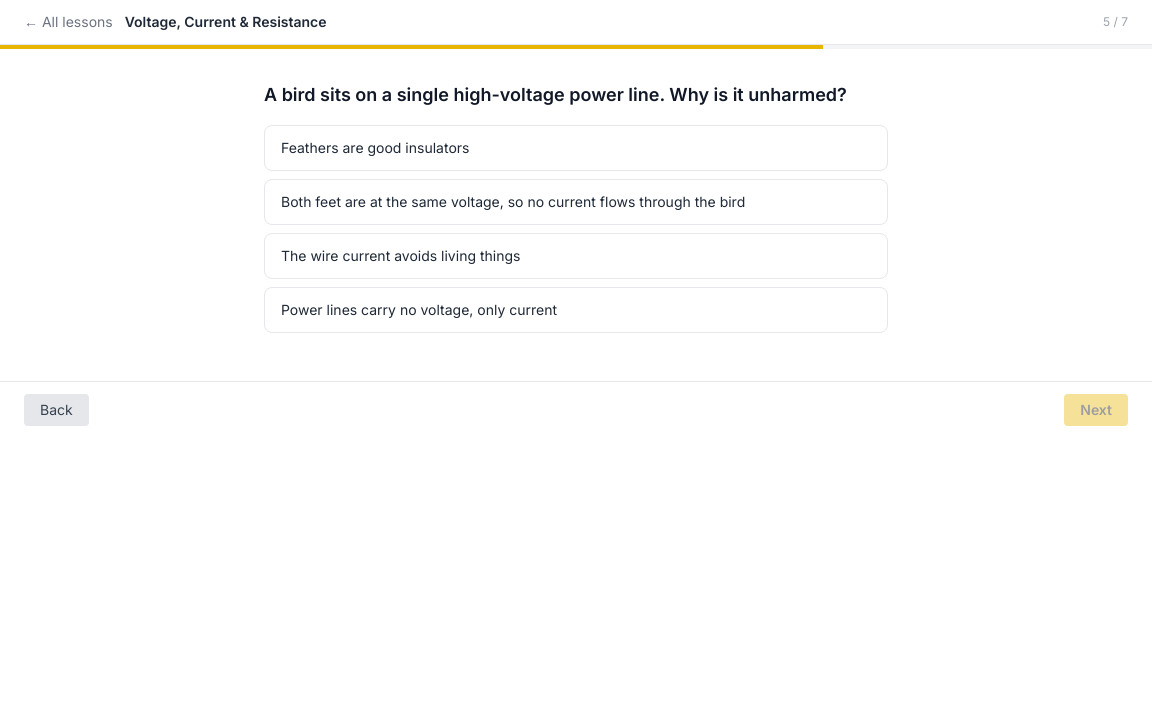
Scenario: LessonsPanel — player › locks quiz answers, shows the explanation, and gates Next
Expected: the heading "bird sits" is shown, x1=264 y1=84 x2=847 y2=105
Expected: the button "Next" is disabled, x1=1064 y1=394 x2=1128 y2=426
Click the button "Both feet are at the same voltage, so no current flows through the bird". click: [576, 202]
box: x1=264 y1=179 x2=888 y2=225
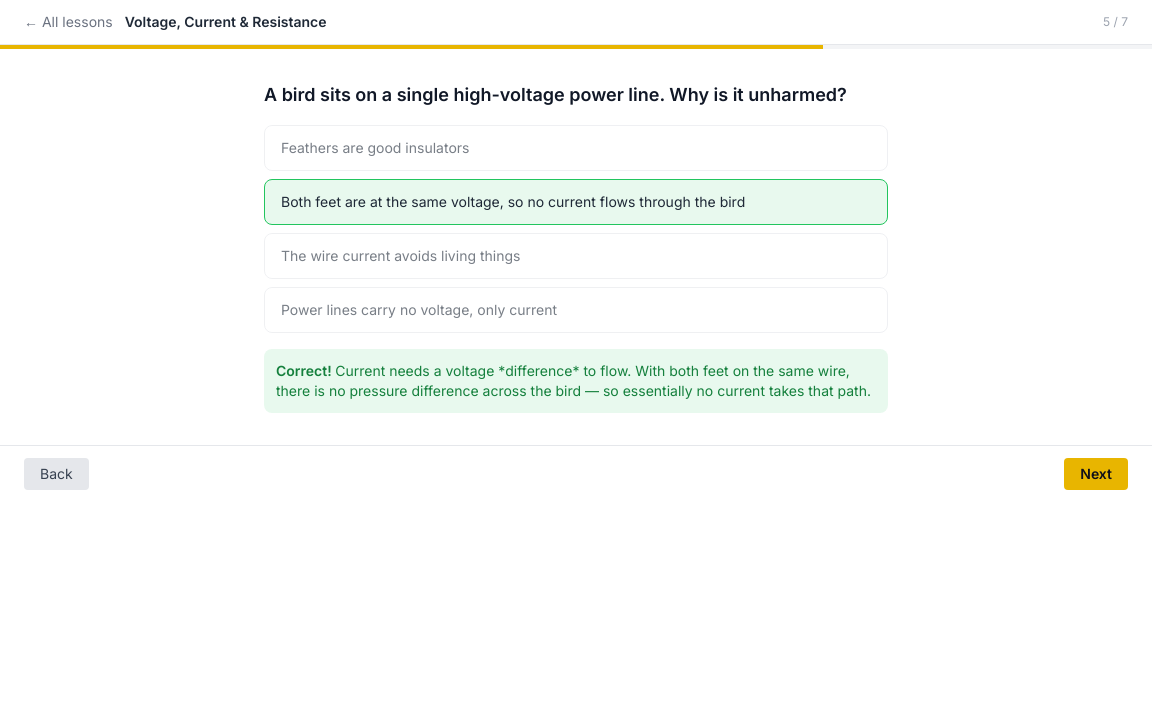
Expected: the text "Correct!" is shown, x1=276 y1=362 x2=335 y2=379
Expected: the button "Next" is enabled, x1=1064 y1=458 x2=1128 y2=490
